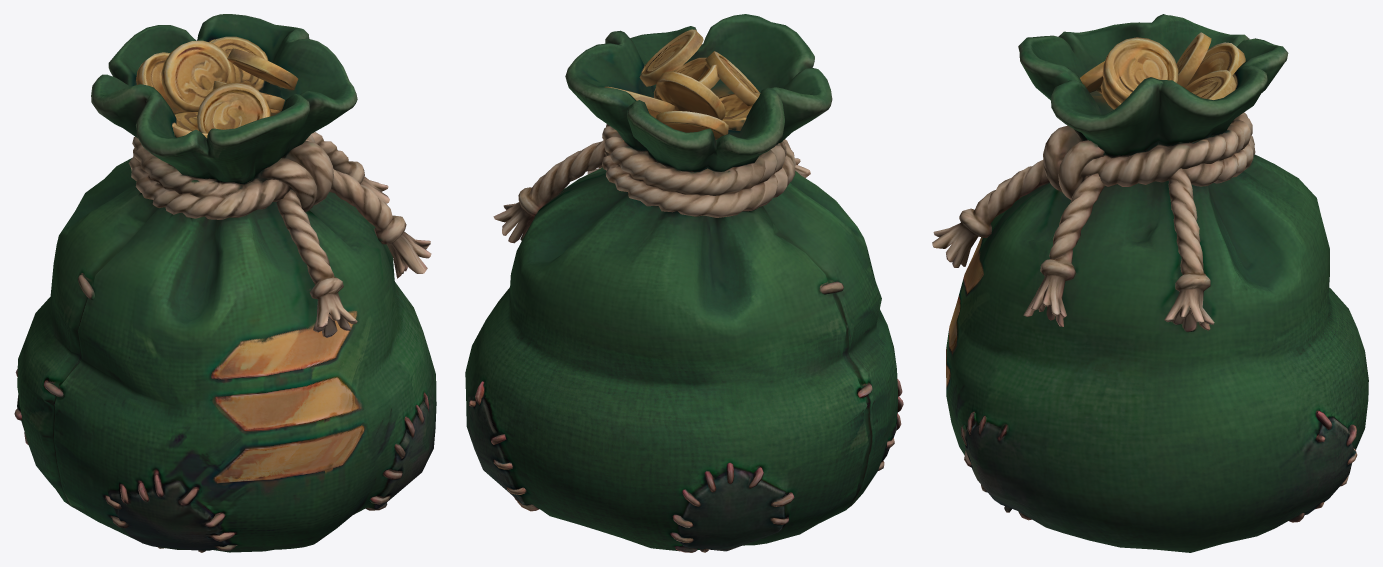
Rendered from tripo_convert_e9ed3e0b-fa94-4759-b599-afc98622a7cc.fbx.
3 renders of one model, left to right at view 1: azimuth 30°, elevation 25°; view 2: azimuth 150°, elevation 25°; view 3: azimuth 270°, elevation 25°, orthographic.
Visible parts, largest first — view 1: tripo_node_e9ed3e0b; view 2: tripo_node_e9ed3e0b; view 3: tripo_node_e9ed3e0b.
Boxes of the visible parts, box(x1,y1,x2,y2) form: tripo_node_e9ed3e0b: box(14, 14, 436, 552); tripo_node_e9ed3e0b: box(465, 14, 903, 552); tripo_node_e9ed3e0b: box(932, 14, 1368, 552).
Size of the model in its own units: 0.8462 by 0.9995 by 0.8403.
1 material, 1 textured.
